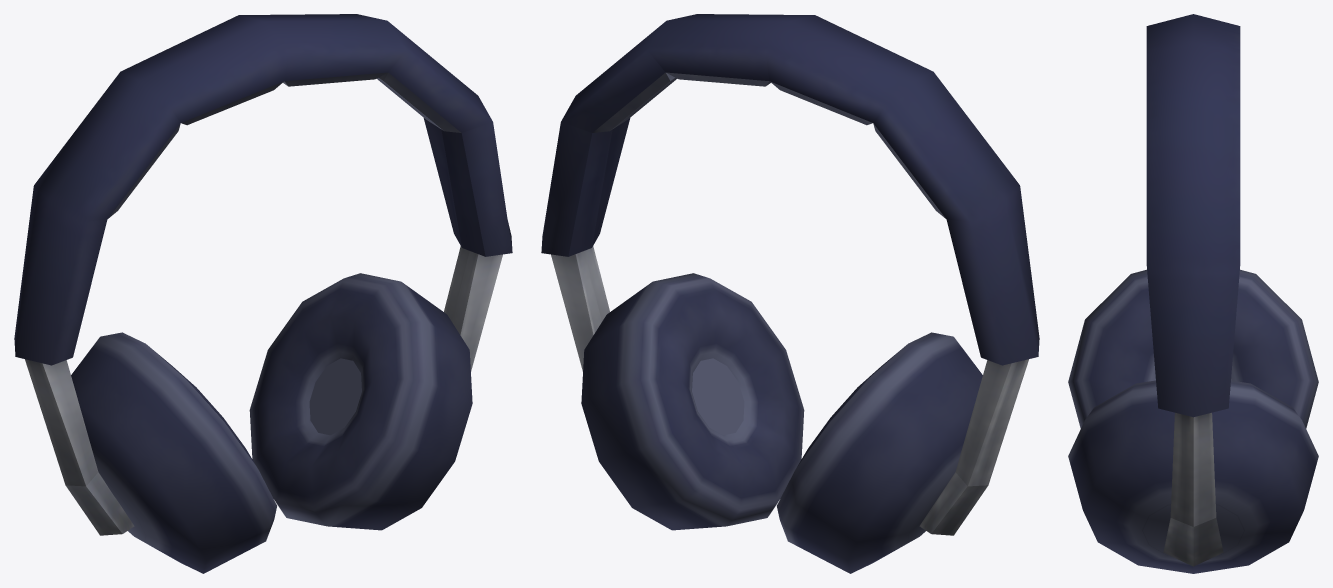
The model's file is HeadPhones.fbx.
3 views of the same model, side by side, from view 1: azimuth 30°, elevation 25°; view 2: azimuth 150°, elevation 25°; view 3: azimuth 270°, elevation 25° (orthographic). The views are drawn at different scales.
Parts seen in each view (by area): view 1: SM_HeadPhones; view 2: SM_HeadPhones; view 3: SM_HeadPhones.
Boxes of the visible parts, left/top/right/bottom form: SM_HeadPhones: left=14, top=14, right=512, bottom=573; SM_HeadPhones: left=541, top=14, right=1039, bottom=573; SM_HeadPhones: left=1068, top=14, right=1318, bottom=573.
Bounding box in the file's own units: 16.94 × 17.02 × 7.85.
